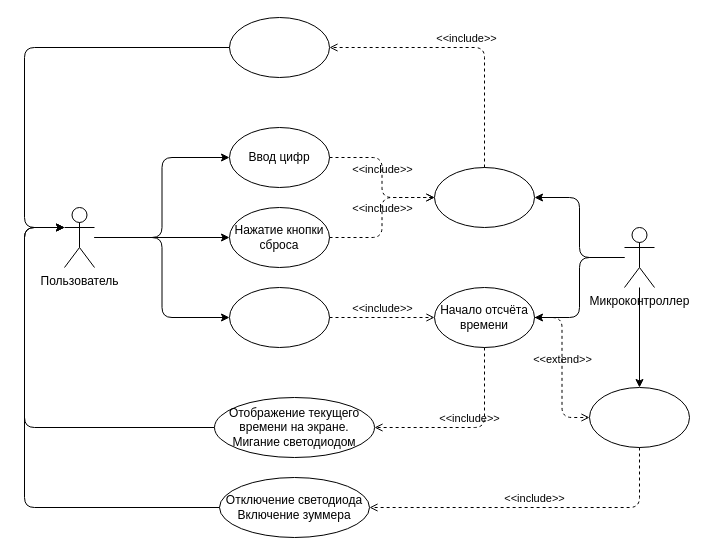
This 707x555 diagram has some shape labels left out. Each missing label, with the centre of its shape:
"Конец отсчёта" belongs at pixel 639 417.
"Нажатие кнопки начала отсчёта" belongs at pixel 279 317.
"Обработка нажатий" belongs at pixel 484 197.
"Отображения действия" belongs at pixel 279 47.
